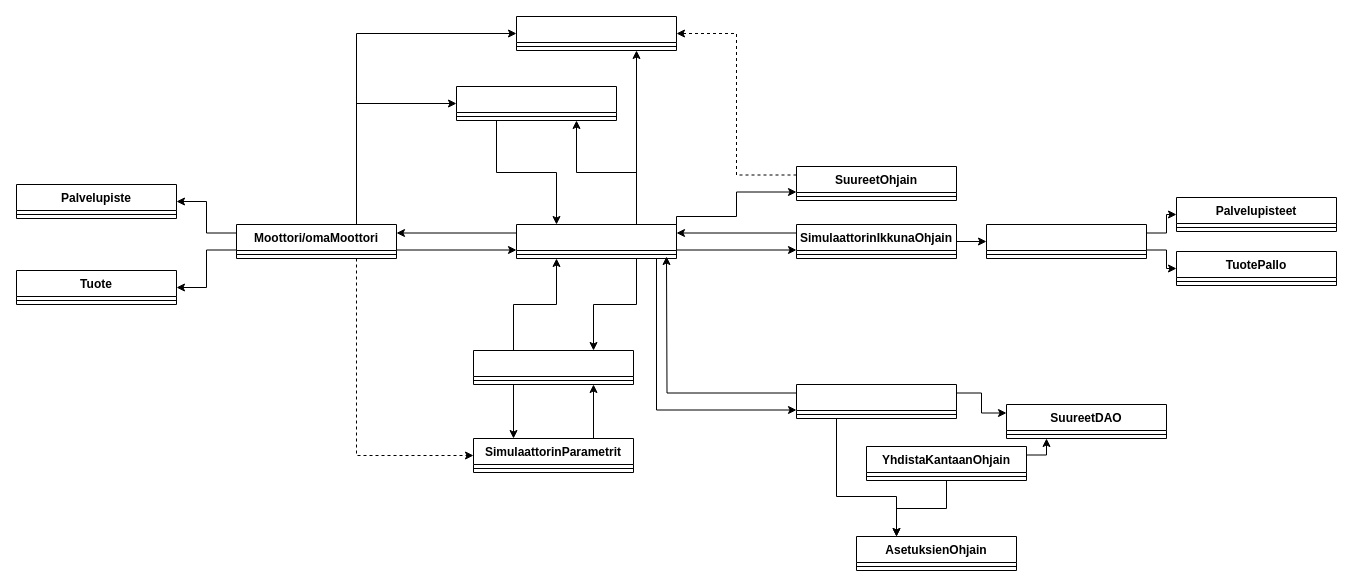
Image size: 1353x587. Some labels were removed from this diagram. Here are the shapes that lost their labels. From the top down, the centre of each, then its label:
At [596,33]: "SimulaattorinSuureet".
At [536,103]: "TiedostonOhjain".
At [596,241]: "MainApp".
At [1066,241]: "AnimaatioOhjain".
At [553,367]: "UusiSimuIkkuna".
At [876,401]: "TietokantaIkkunaOhjain".
